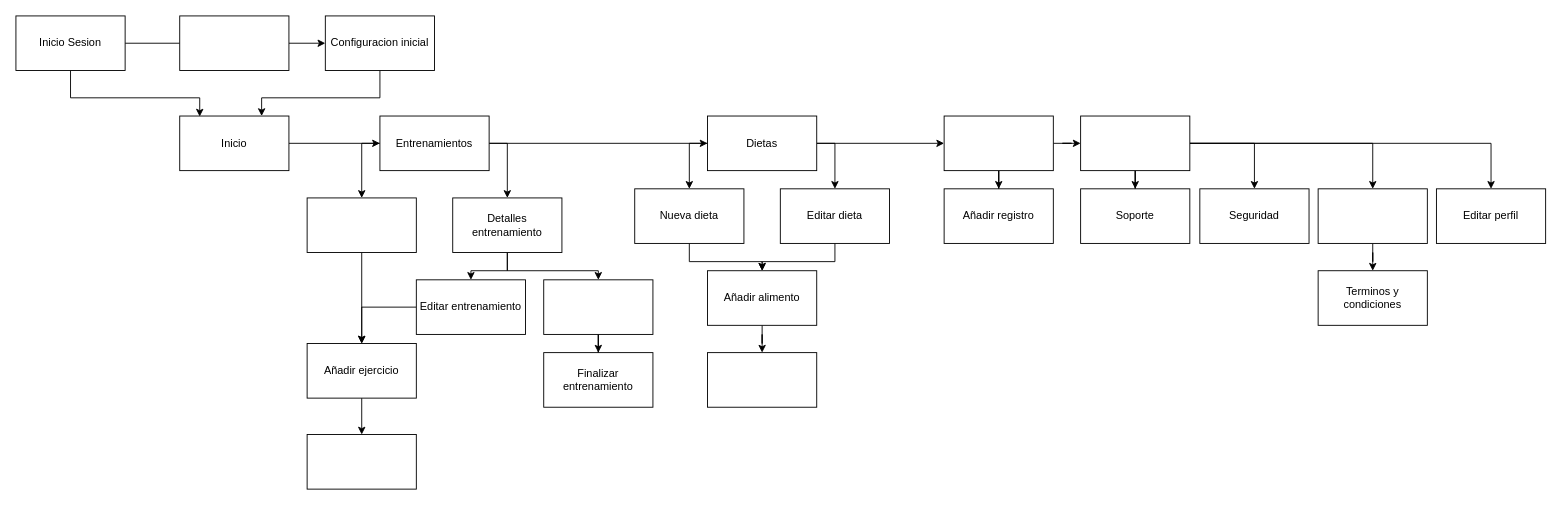
Image size: 1562x505. Some labels were removed from this diagram. Here are the shapes that lost their labels. From the top down, the centre of each, then its label:
At (x=234, y=43): "Registrarse".
At (x=998, y=143): "Progreso".
At (x=1135, y=143): "Perfil".
At (x=361, y=225): "Nuevo entrenamiento".
At (x=1372, y=215): "Preferencias".
At (x=598, y=306): "Entrenamiento".
At (x=762, y=379): "Detalles alimento".
At (x=361, y=461): "Detalles ejercio".
